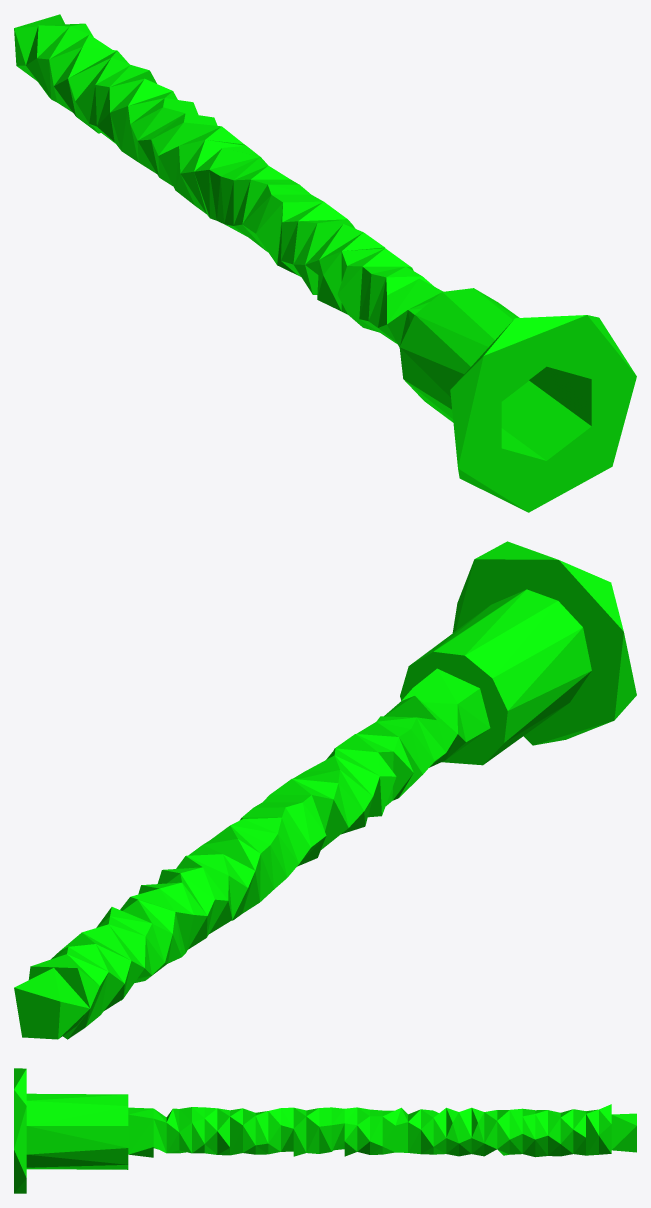
The model's file is skruv_correct.obj.
3 renders of one model, top to bottom at view 1: azimuth 30°, elevation 25°; view 2: azimuth 150°, elevation 25°; view 3: azimuth 270°, elevation 25°, orthographic. The views are drawn at different scales.
Bounding box in the file's own units: 20.3 × 20.75 × 100.
